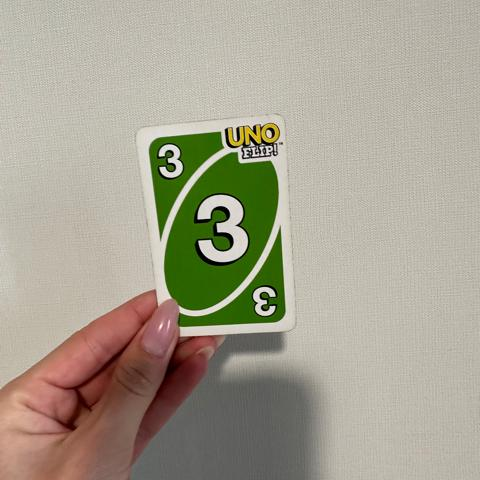6_green: (193, 190, 253, 266), (153, 142, 188, 179), (249, 282, 280, 318)
